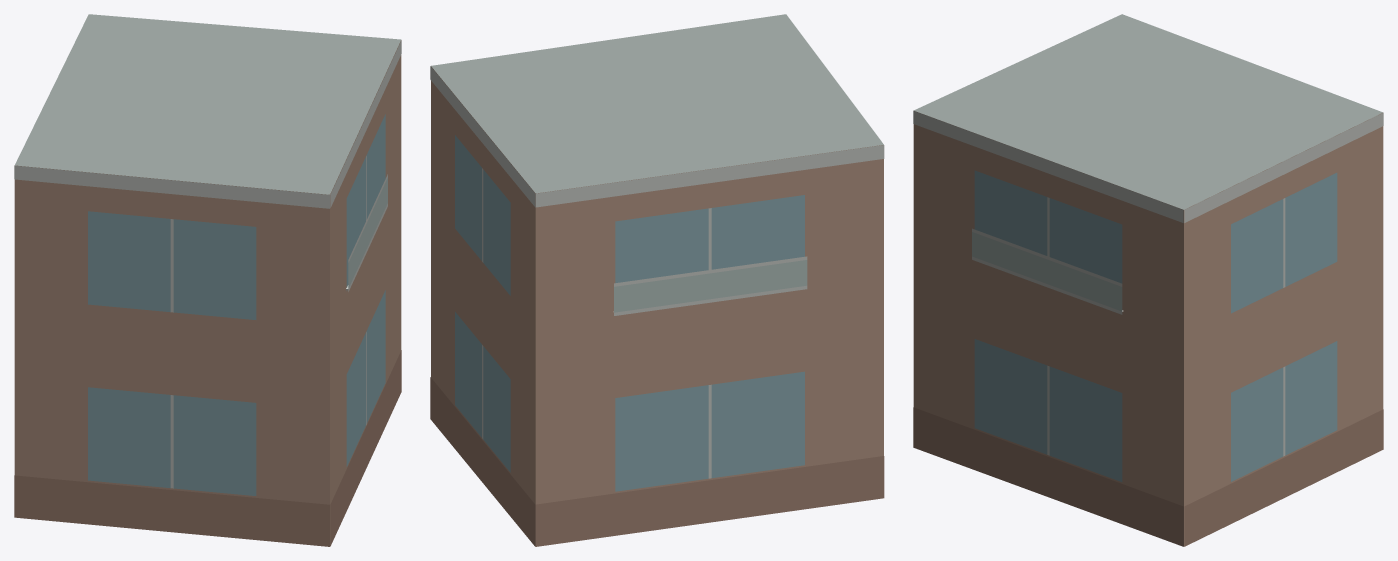
File: survey-upis-33042202.glb
The picture shows the model from 3 angles, left to right: view 1: azimuth 30°, elevation 25°; view 2: azimuth 150°, elevation 25°; view 3: azimuth 270°, elevation 25°; orthographic projection. The views are drawn at different scales.
Visible parts, largest first — view 1: survey-upis-33042202.tmp; view 2: survey-upis-33042202.tmp; view 3: survey-upis-33042202.tmp.
Part boxes in pixels (x1,y1,x2,y2): survey-upis-33042202.tmp: (14, 14, 401, 546); survey-upis-33042202.tmp: (430, 14, 884, 546); survey-upis-33042202.tmp: (913, 14, 1383, 546).
Size of the model in its own units: 7.61 by 6.1 by 7.72.
